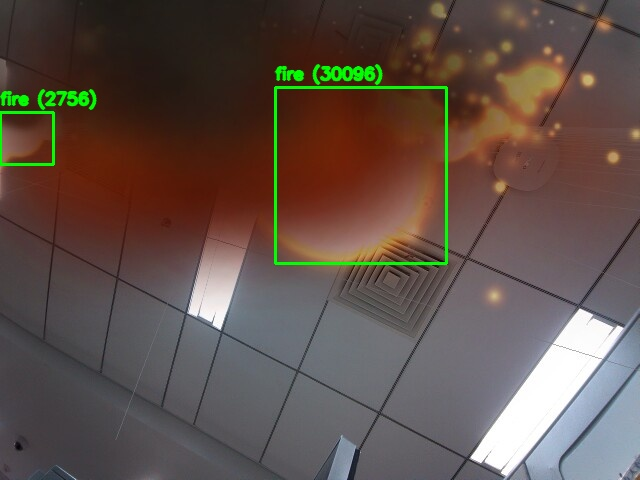fire: (275, 87, 446, 263), (0, 112, 53, 164)
